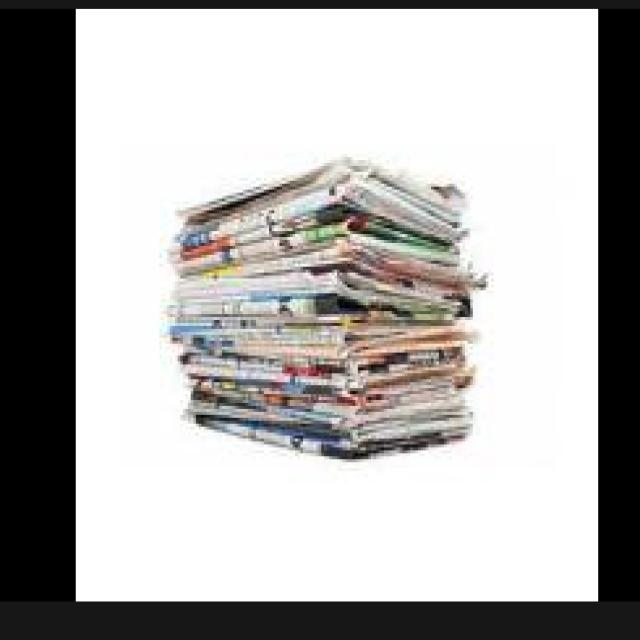Koran: (160, 151, 488, 459)
